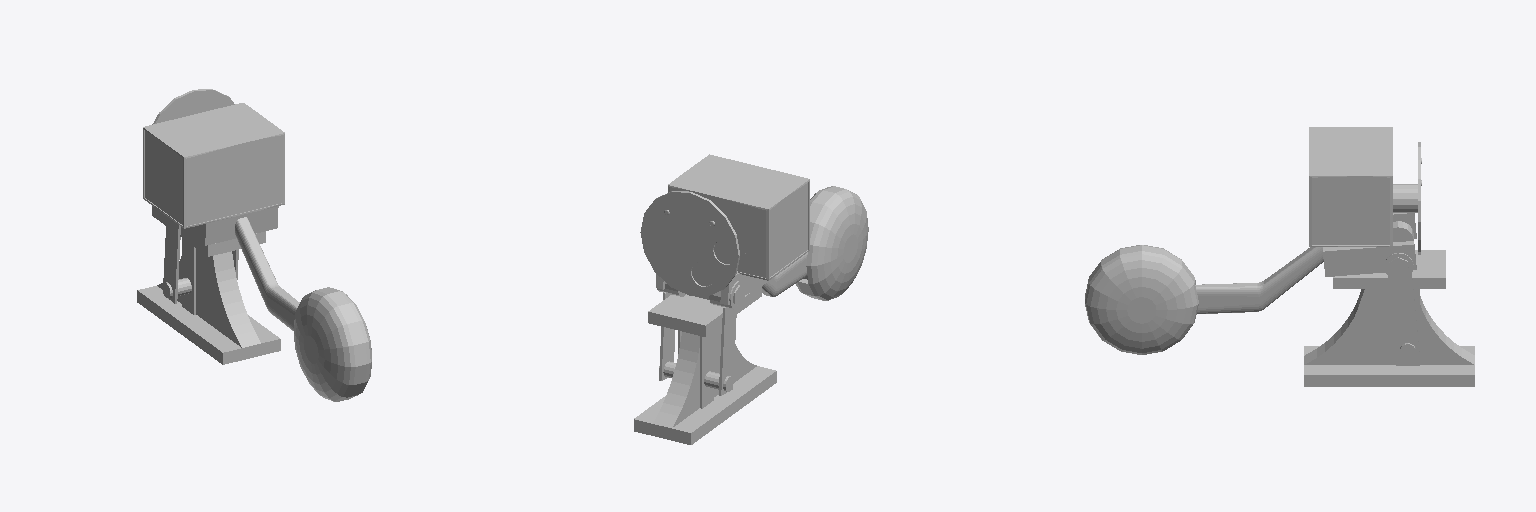
File: shuntsignaldanger.obj
3 views of the same model, side by side, from view 1: azimuth 30°, elevation 25°; view 2: azimuth 150°, elevation 25°; view 3: azimuth 270°, elevation 25° (orthographic).
Visible parts, largest first — view 1: ON_SIGNAL_Cylinder.002_Cylinder.005; view 2: ON_SIGNAL_Cylinder.002_Cylinder.005; view 3: ON_SIGNAL_Cylinder.002_Cylinder.005.
Boxes of the visible parts, x1,y1,x2,y2 form: ON_SIGNAL_Cylinder.002_Cylinder.005: [137, 89, 371, 401]; ON_SIGNAL_Cylinder.002_Cylinder.005: [634, 154, 868, 444]; ON_SIGNAL_Cylinder.002_Cylinder.005: [1085, 127, 1474, 386].
Bounding box in the file's own units: 0.5456 × 1.03 × 1.62.